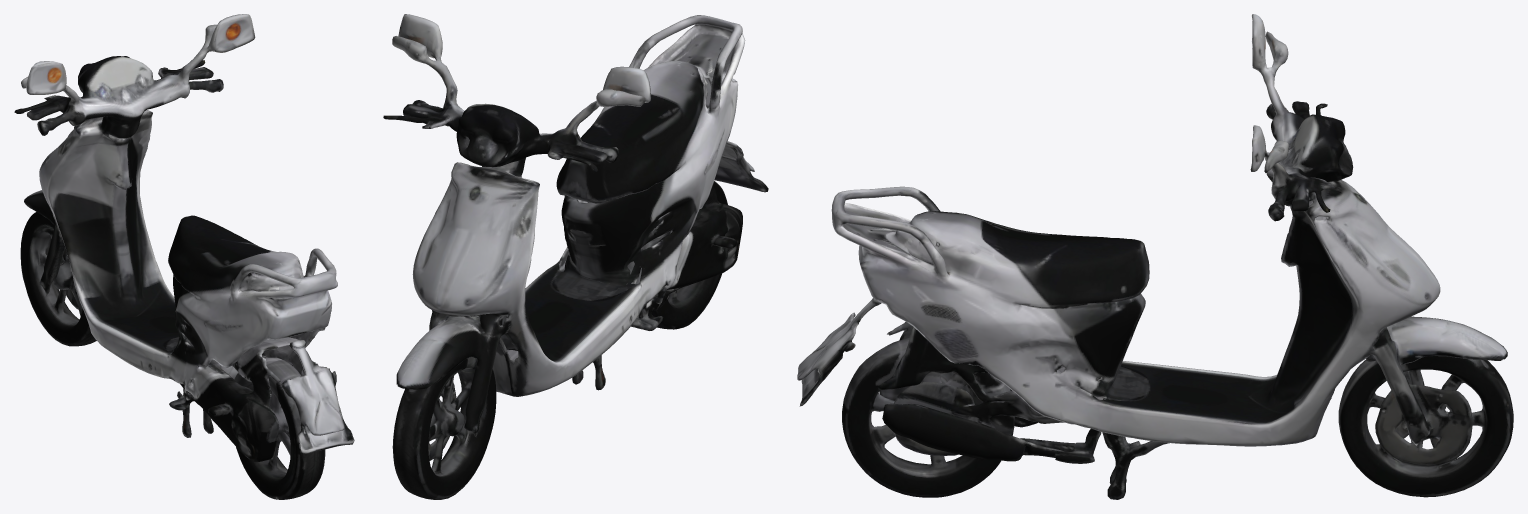
Rendered from oreva_Alish_0905122334.fbx.
3 renders of one model, left to right at view 1: azimuth 30°, elevation 25°; view 2: azimuth 150°, elevation 25°; view 3: azimuth 270°, elevation 25°, orthographic. The views are drawn at different scales.
Parts seen in each view (by area): view 1: Mesh_0; view 2: Mesh_0; view 3: Mesh_0.
Part boxes in pixels (x1,y1,x2,y2): Mesh_0: (14,14,354,499); Mesh_0: (383,14,768,499); Mesh_0: (797,14,1513,499).
Size of the model in its own units: 87.56 by 129 by 200.
Materials: 1 (1 with a texture image).
